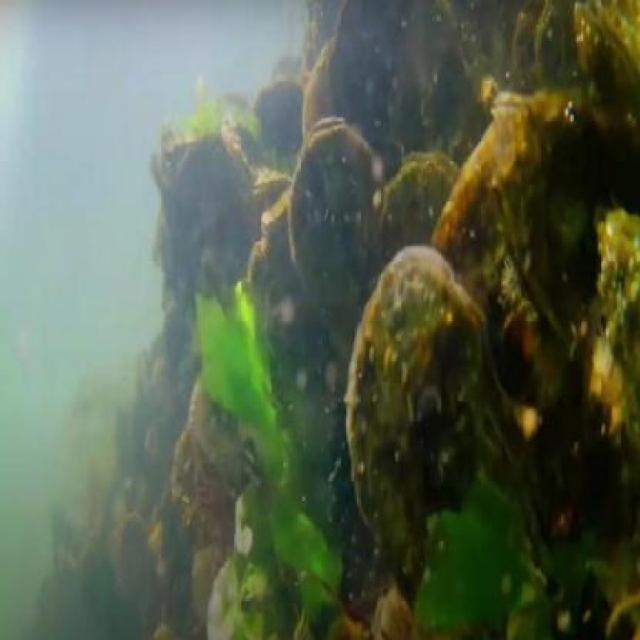Oyster-Closed: (344, 248, 564, 640), (289, 116, 388, 362), (571, 0, 640, 171), (261, 185, 294, 239)
Oyster-Indeterminate: (437, 125, 574, 438), (495, 85, 640, 361), (331, 0, 429, 162), (383, 154, 456, 260), (190, 362, 246, 474), (251, 82, 305, 166), (303, 31, 336, 132)
